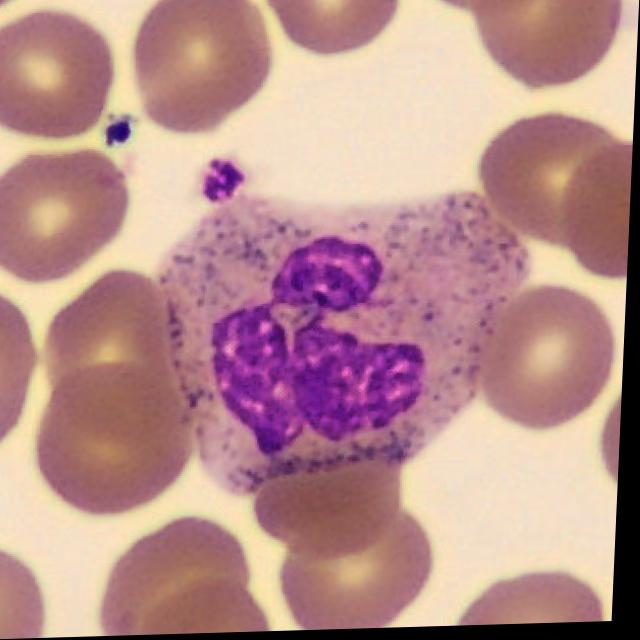Neutrofilo segmentado: (161, 194, 532, 500)
